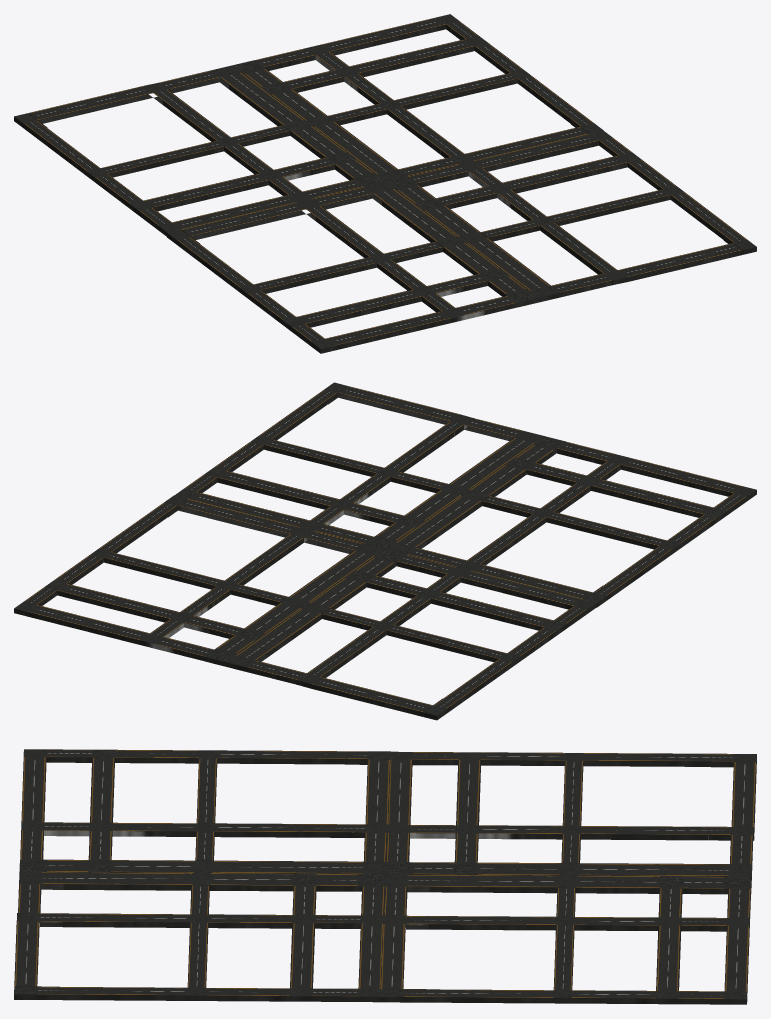
File: road.obj
3 views of the same model, one above another, from view 1: azimuth 30°, elevation 25°; view 2: azimuth 150°, elevation 25°; view 3: azimuth 270°, elevation 25° (orthographic). The views are drawn at different scales.
Visible parts, largest first — view 1: Cube_Cube.005; view 2: Cube_Cube.005; view 3: Cube_Cube.005.
Boxes of the visible parts, <box> form: Cube_Cube.005: <box>14,14,756,353</box>; Cube_Cube.005: <box>14,382,756,720</box>; Cube_Cube.005: <box>14,749,756,1004</box>.
Bounding box in the file's own units: 61.75 × 0.6309 × 77.56.
